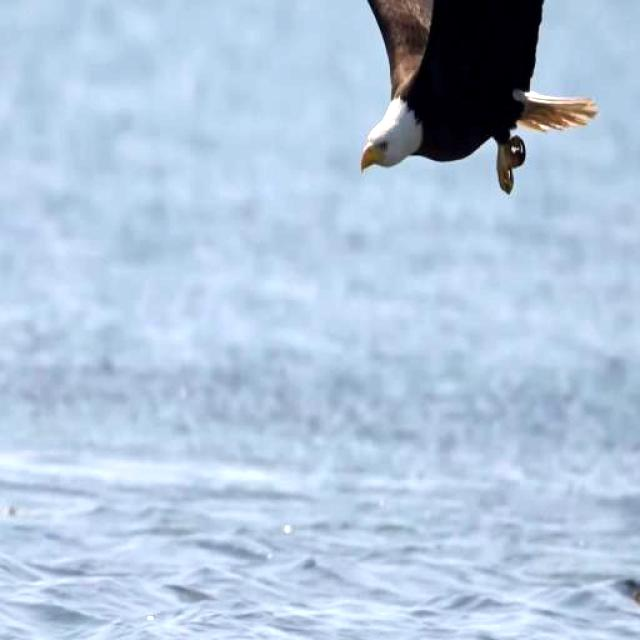airplane: (331, 0, 619, 210)
